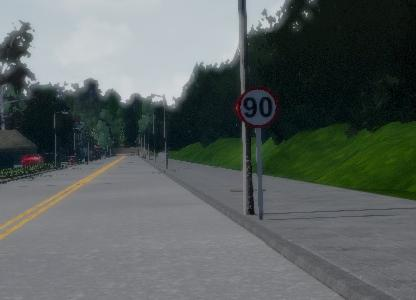Speed_90: (235, 88, 281, 131)
